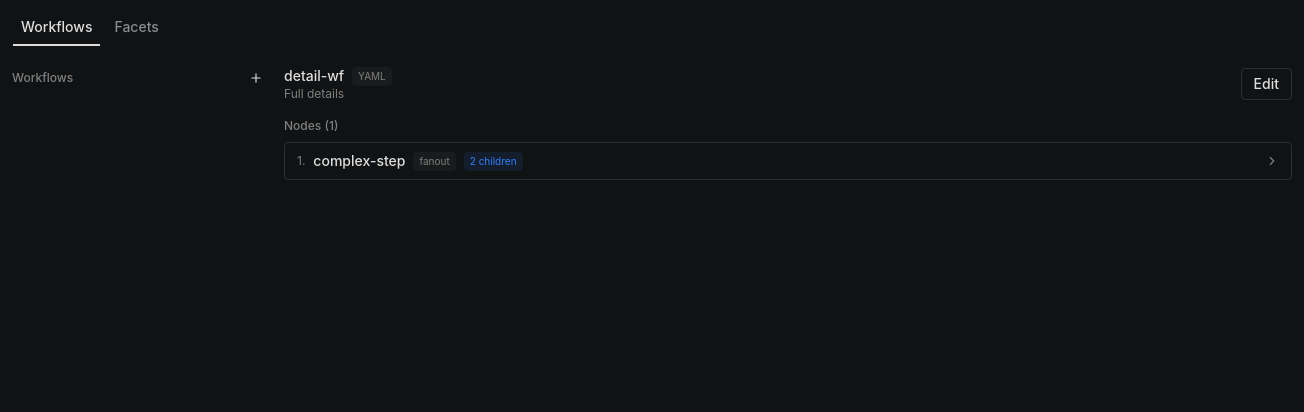
Test: AutomationSection › workflow detail shows node details when expanded
Click the text "complex-step" at (359, 161), box [313, 151, 406, 171]
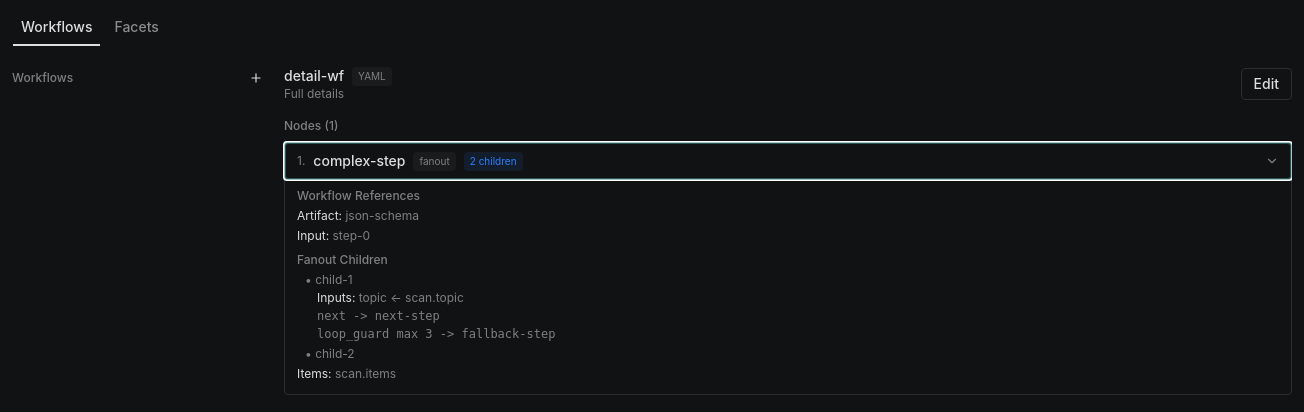
Expected: the text "Workflow References" is shown, [297, 188, 420, 203]
Expected: the text "Artifact:" is shown, [297, 208, 342, 223]
Expected: the text "json-schema" is shown, [345, 208, 419, 223]
